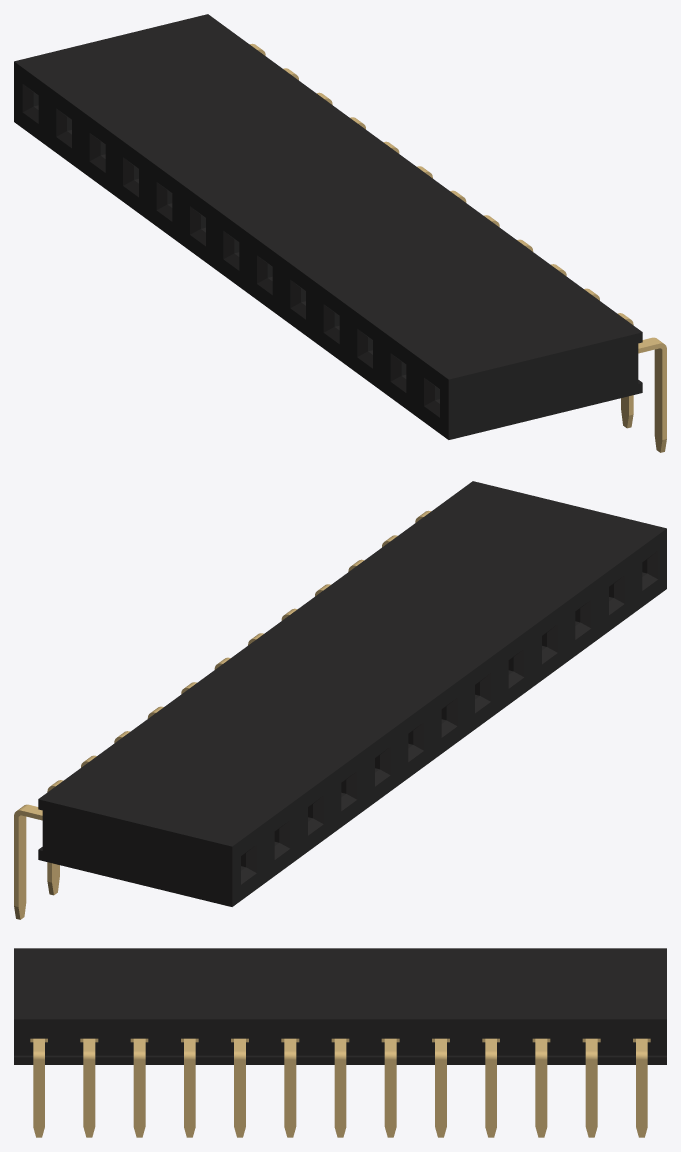
The model's file is kc-pinsocket_1x13_p2.54mm_horizontal.glb.
The picture shows the model from 3 angles, top to bottom: view 1: azimuth 30°, elevation 25°; view 2: azimuth 150°, elevation 25°; view 3: azimuth 270°, elevation 25°; orthographic projection. The views are drawn at different scales.
Parts seen in each view (by area): view 1: 0_0_0_0, 0.75_0.5_0.25_0.9; view 2: 0_0_0_0, 0.75_0.5_0.25_0.9; view 3: 0_0_0_0, 0.75_0.5_0.25_0.9.
Part boxes in pixels (x1,y1,x2,y2): 0_0_0_0: (14,14,642,439); 0.75_0.5_0.25_0.9: (250,43,666,452); 0_0_0_0: (38,481,666,906); 0.75_0.5_0.25_0.9: (14,510,430,919); 0_0_0_0: (14,948,666,1064); 0.75_0.5_0.25_0.9: (30,1038,650,1137).
Size of the model in its own units: 1.01 by 0.584 by 3.3.
